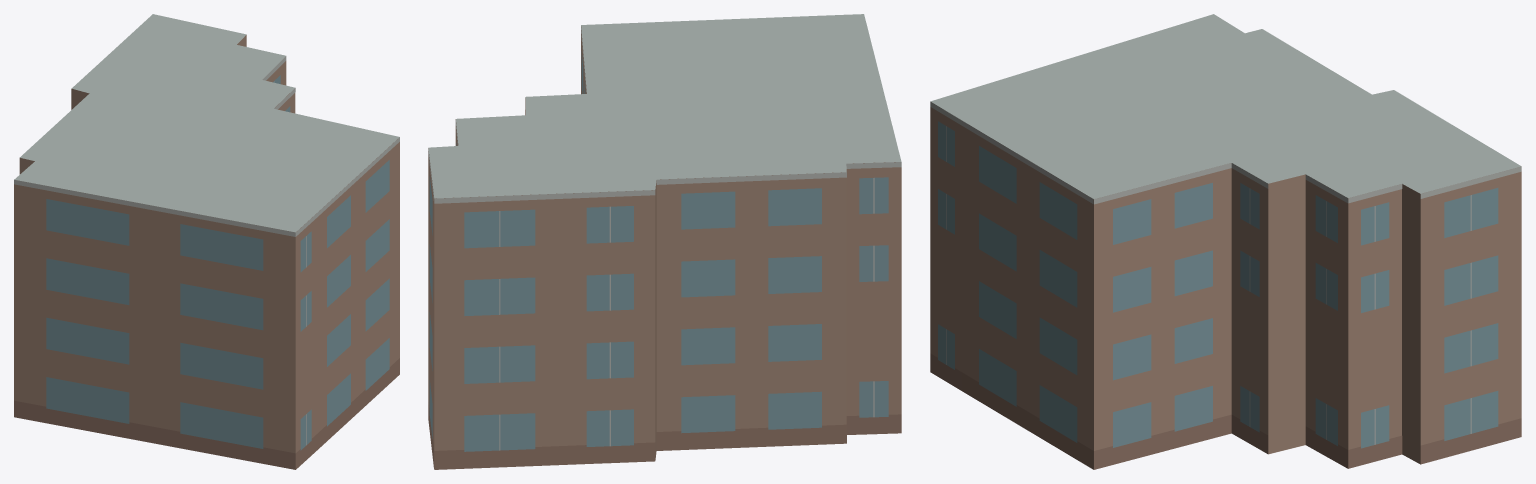
File: survey-upis-32631147.glb
3 views of the same model, side by side, from view 1: azimuth 30°, elevation 25°; view 2: azimuth 150°, elevation 25°; view 3: azimuth 270°, elevation 25° (orthographic). The views are drawn at different scales.
Visible parts, largest first — view 1: survey-upis-32631147.tmp; view 2: survey-upis-32631147.tmp; view 3: survey-upis-32631147.tmp.
Boxes of the visible parts, box(x1,y1,x2,y2) form: survey-upis-32631147.tmp: box(14, 14, 399, 469); survey-upis-32631147.tmp: box(428, 14, 901, 469); survey-upis-32631147.tmp: box(930, 14, 1521, 469).
Bounding box in the file's own units: 18.36 × 12.5 × 24.76.
